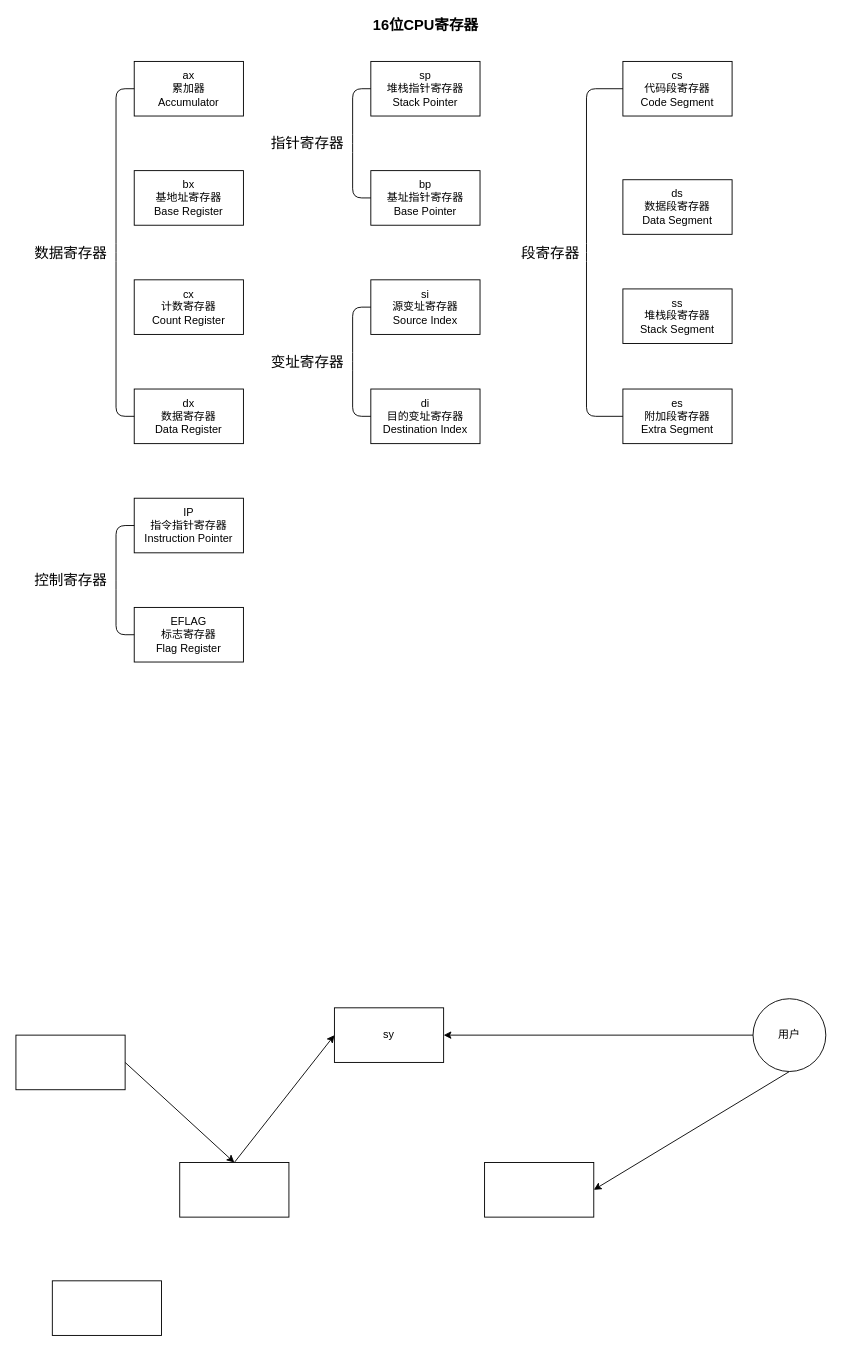
This 842x1351 diagram has some shape labels left out. Here are the shapes that lost their labels. From the top down, the centre of each, then its label:
At (234,1189): "300b".
At (539,1189): "腾讯云".
